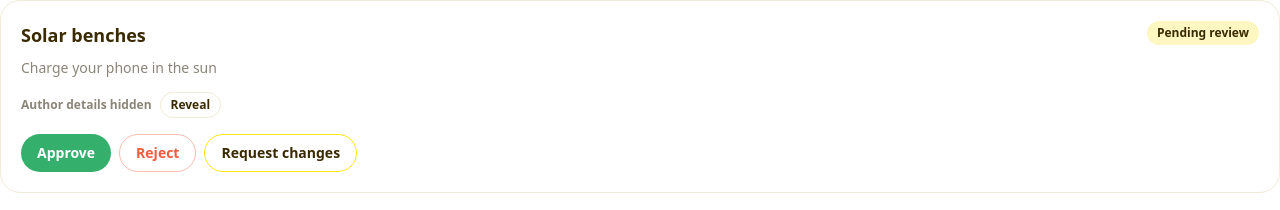
ModerationItem › reveals the real author to moderators even when anonymous
This screenshot has width=1280, height=210.
Click the button "Reveal": x=190, y=105 [160, 92, 221, 118]
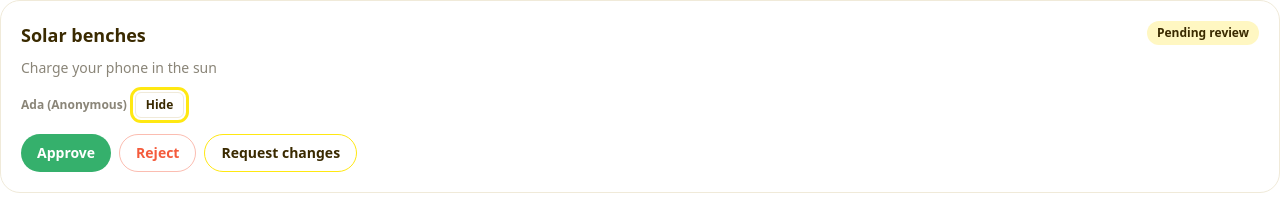
Expected: the text "Ada (Anonymous)" is shown, [21, 97, 127, 113]
